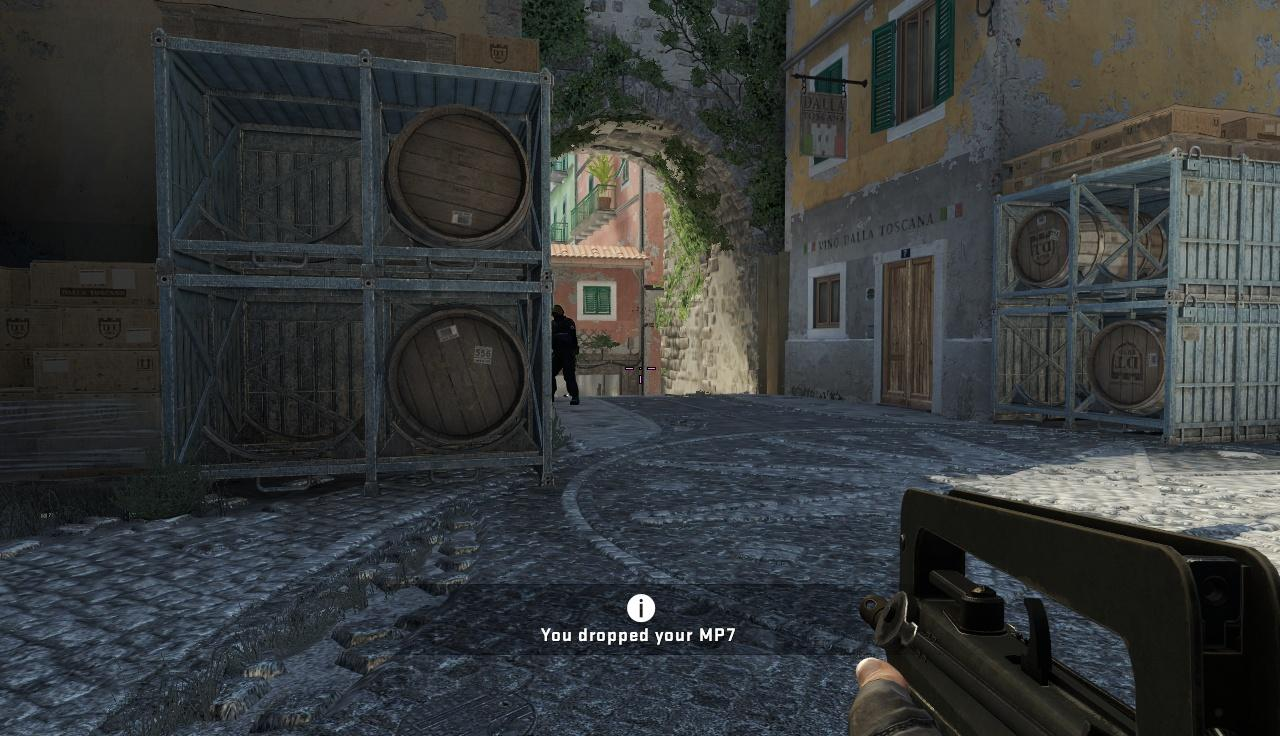ct: (551, 305, 578, 404)
cthead: (552, 306, 564, 320)
rifle: (852, 484, 1280, 736)
